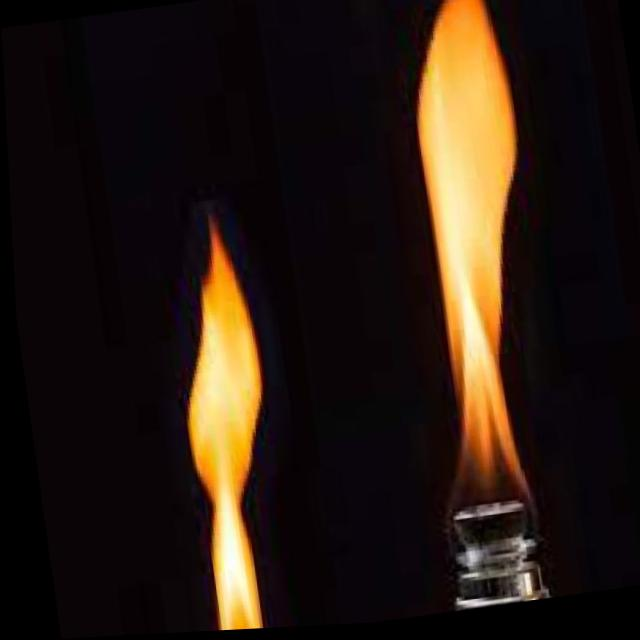Fire: (369, 0, 577, 540), (84, 184, 319, 637)
